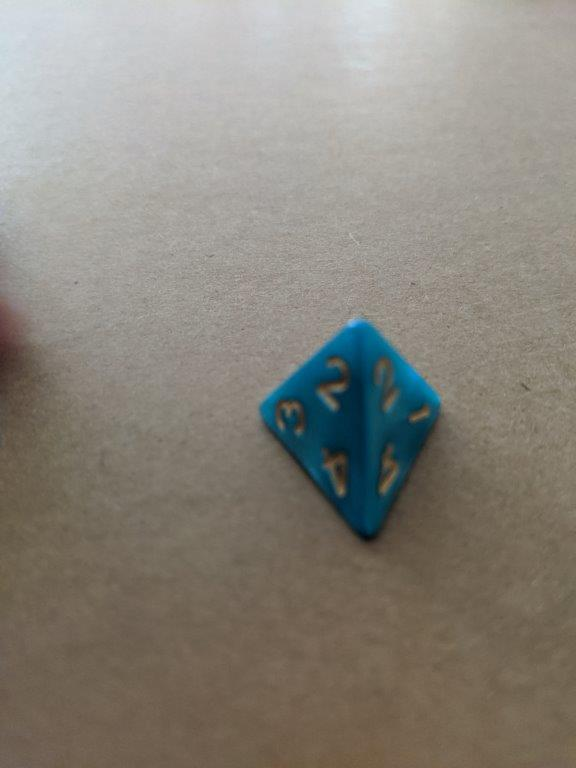d4-2: (249, 317, 444, 546)
